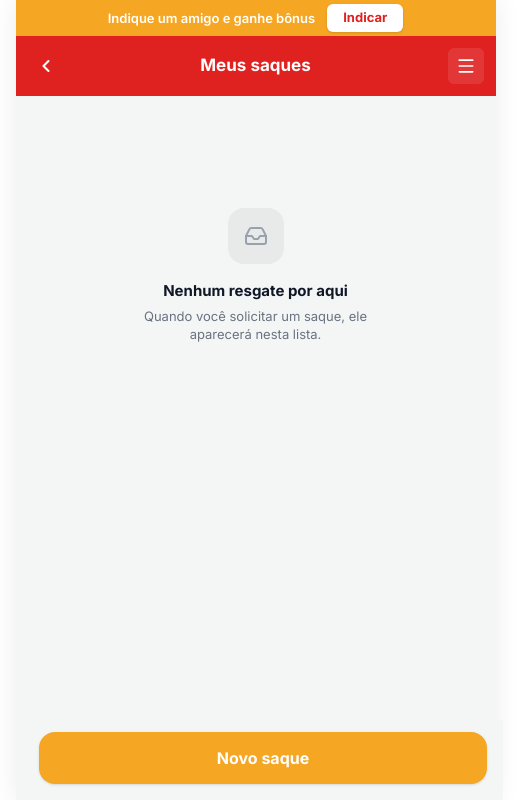
Test: Novo saque: chaves recentes › chave CPF recente mostra os dígitos e preenche com a máscara do titular
The width and height of the screenshot is (520, 800).
Click the button "Novo saque" at x=263, y=758, box [39,732,487,784]
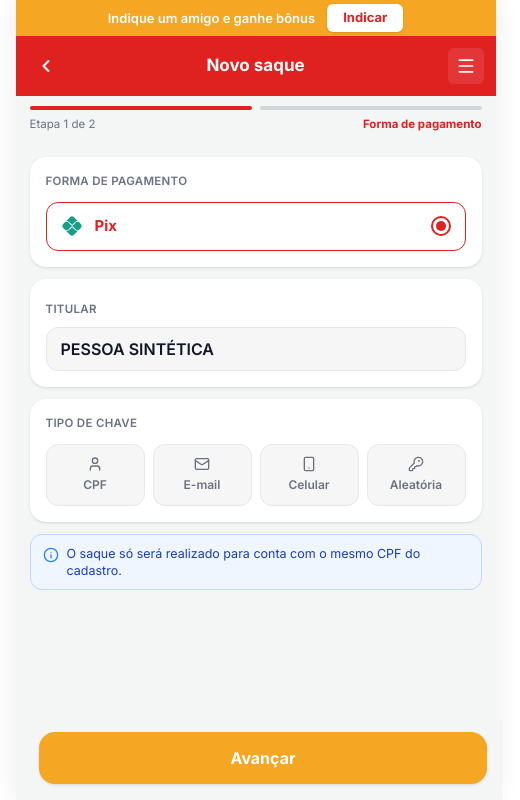
Click the radio button labelled "CPF" at x=95, y=475, box [46,444,144,506]
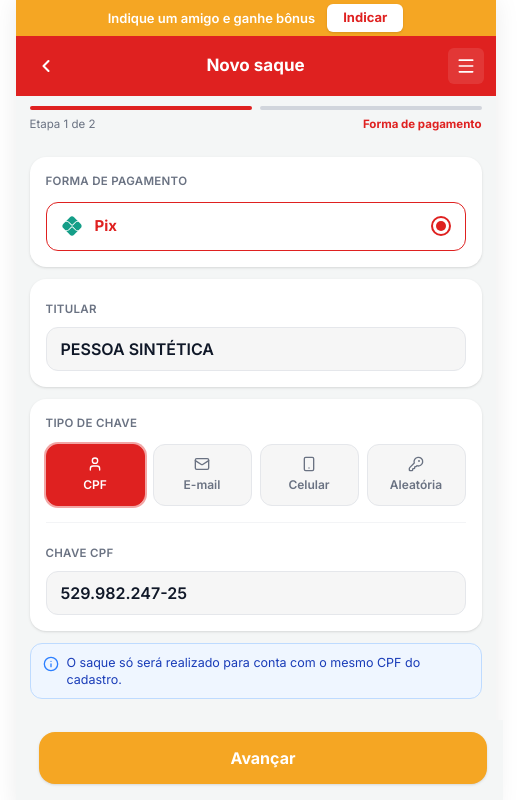
Click the button "Avançar" at x=263, y=758, box [39,732,487,784]
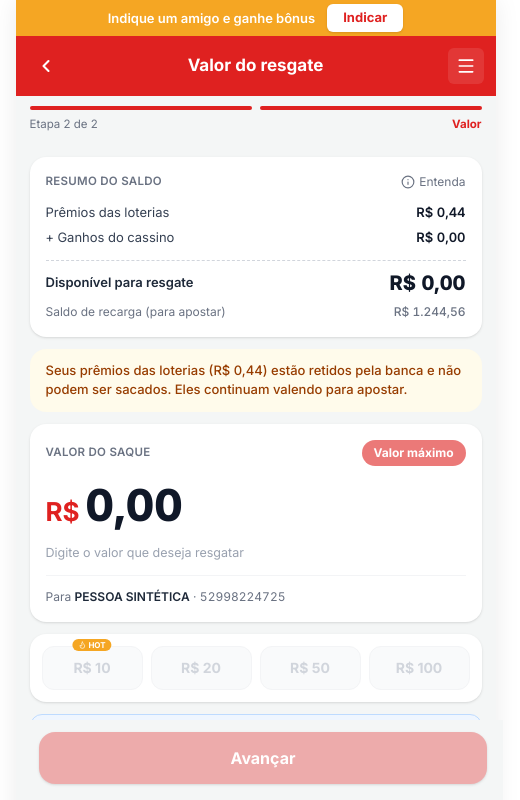
Click the button named "Voltar" at x=46, y=66, box [28,48,64,84]
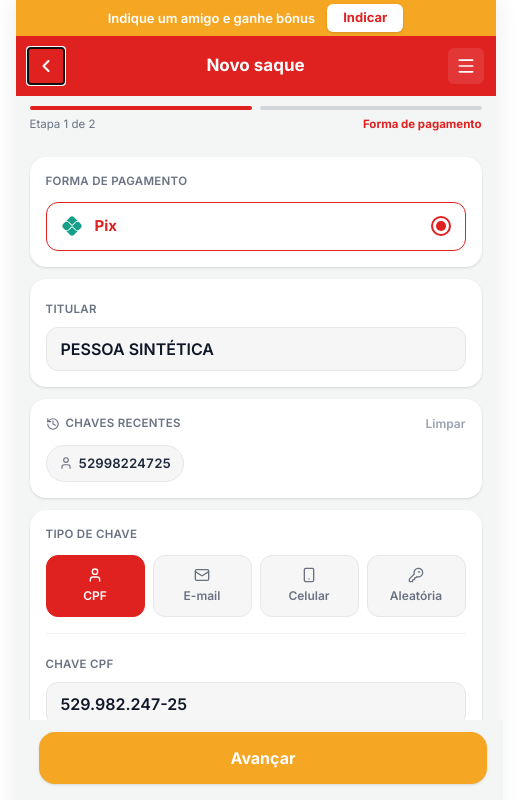
Click the radio button labelled "E-mail" at x=202, y=586, box [152,555,252,617]
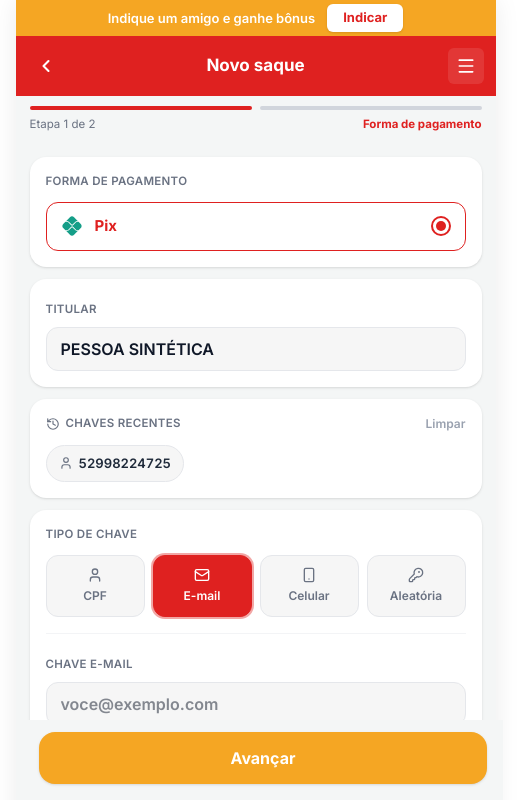
Click the button "52998224725" at x=115, y=463, box [46,444,184,482]
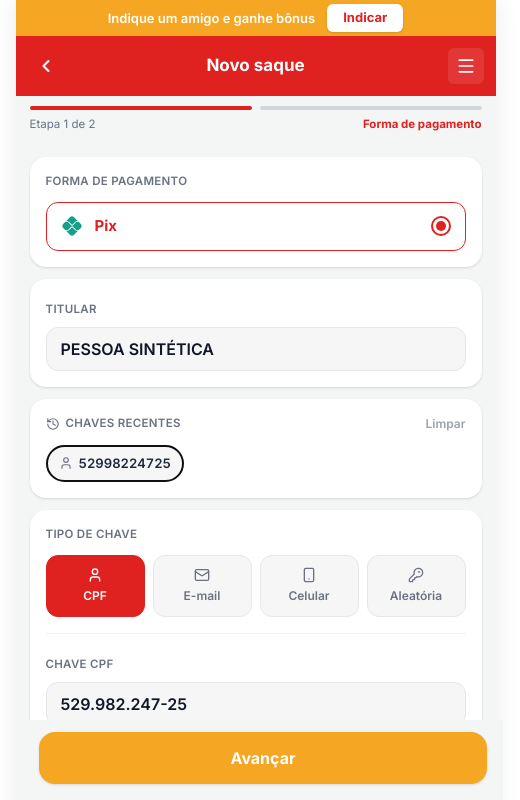
Check: the field labelled "Chave CPF" holds "529.982.247-25", box [46,682,466,726]
